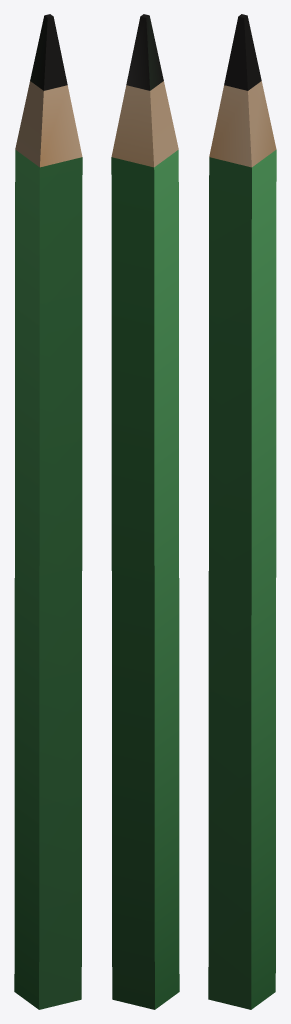
Rendered from pencil-green.fbx.
3 views of the same model, side by side, from view 1: azimuth 30°, elevation 25°; view 2: azimuth 150°, elevation 25°; view 3: azimuth 330°, elevation 25° (orthographic).
Parts seen in each view (by area): view 1: pencil-green; view 2: pencil-green; view 3: pencil-green.
Boxes of the visible parts, box(x1,y1,x2,y2) form: pencil-green: box(14, 14, 82, 1009); pencil-green: box(111, 14, 179, 1009); pencil-green: box(208, 14, 276, 1009).
Size of the model in its own units: 0.0138 by 0.2987 by 0.0136.
